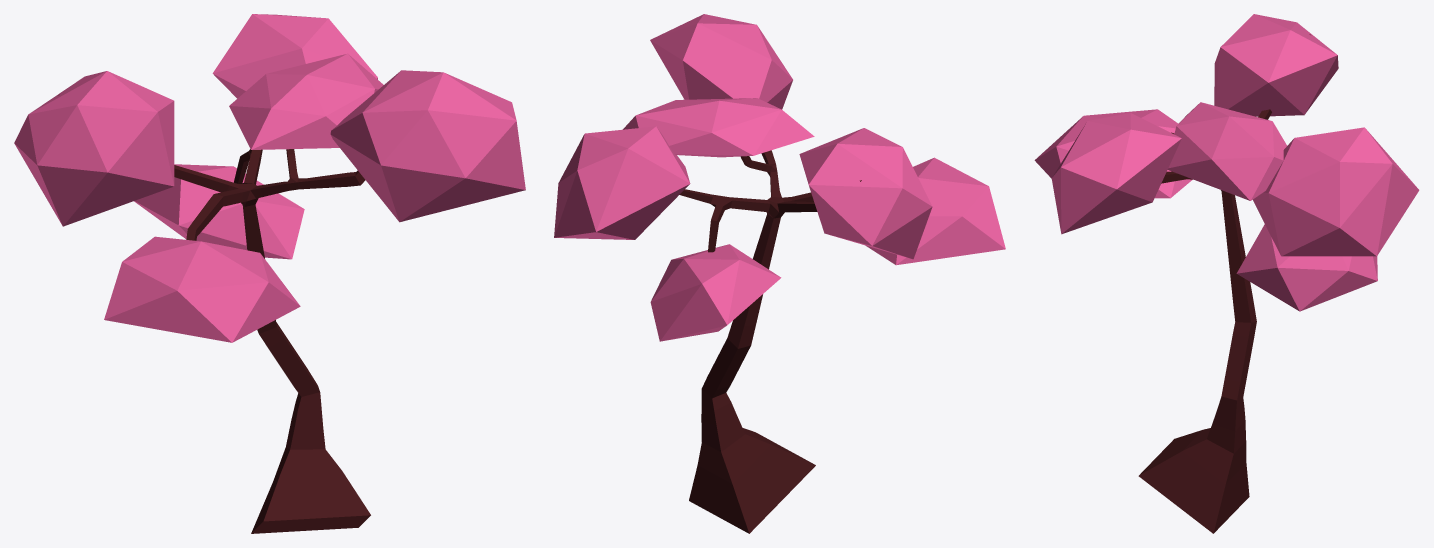
File: Tree.glb
3 renders of one model, left to right at view 1: azimuth 30°, elevation 25°; view 2: azimuth 150°, elevation 25°; view 3: azimuth 270°, elevation 25°, orthographic. The views are drawn at different scales.
Parts seen in each view (by area): view 1: Icosphere.001, Icosphere.003, Cube, Icosphere, Icosphere.004, Icosphere.002, Icosphere.005; view 2: Cube, Icosphere.003, Icosphere.005, Icosphere.001, Icosphere.002, Icosphere.004, Icosphere; view 3: Icosphere.005, Cube, Icosphere.001, Icosphere.003, Icosphere.004, Icosphere.002, Icosphere.
Part boxes in pixels (<box>): Icosphere.001: <box>330,70,525,222</box>; Icosphere.003: <box>14,71,174,226</box>; Cube: <box>58,94,370,533</box>; Icosphere: <box>104,236,300,342</box>; Icosphere.004: <box>229,53,383,149</box>; Icosphere.002: <box>134,164,304,259</box>; Icosphere.005: <box>212,14,377,98</box>; Cube: <box>679,150,861,533</box>; Icosphere.003: <box>799,128,932,259</box>; Icosphere.005: <box>554,126,690,239</box>; Icosphere.001: <box>650,14,792,109</box>; Icosphere.002: <box>650,244,781,341</box>; Icosphere.004: <box>623,98,814,157</box>; Icosphere: <box>865,157,1005,265</box>; Icosphere.005: <box>1253,127,1419,256</box>; Cube: <box>1138,34,1310,533</box>; Icosphere.001: <box>1051,113,1181,234</box>; Icosphere.003: <box>1214,14,1338,116</box>; Icosphere.004: <box>1167,102,1286,200</box>; Icosphere.002: <box>1236,224,1377,311</box>; Icosphere: <box>1034,109,1192,198</box>.
Bounding box in the file's own units: 3.25 × 3.74 × 3.11.
